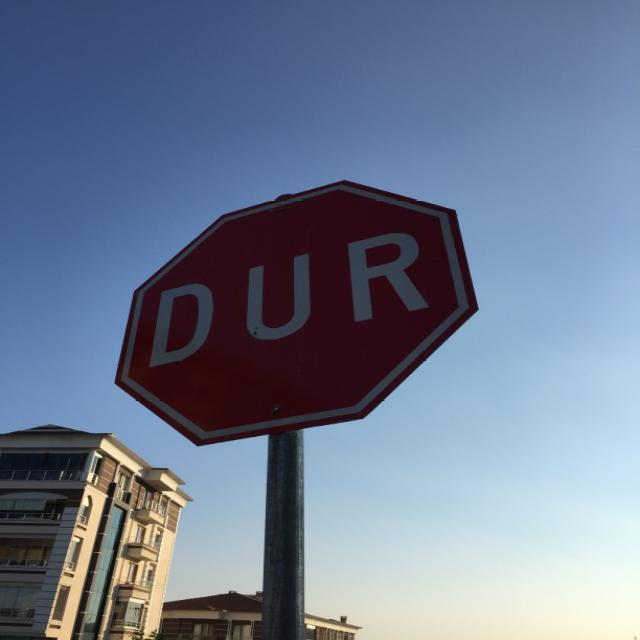dur: (113, 186, 482, 446)
